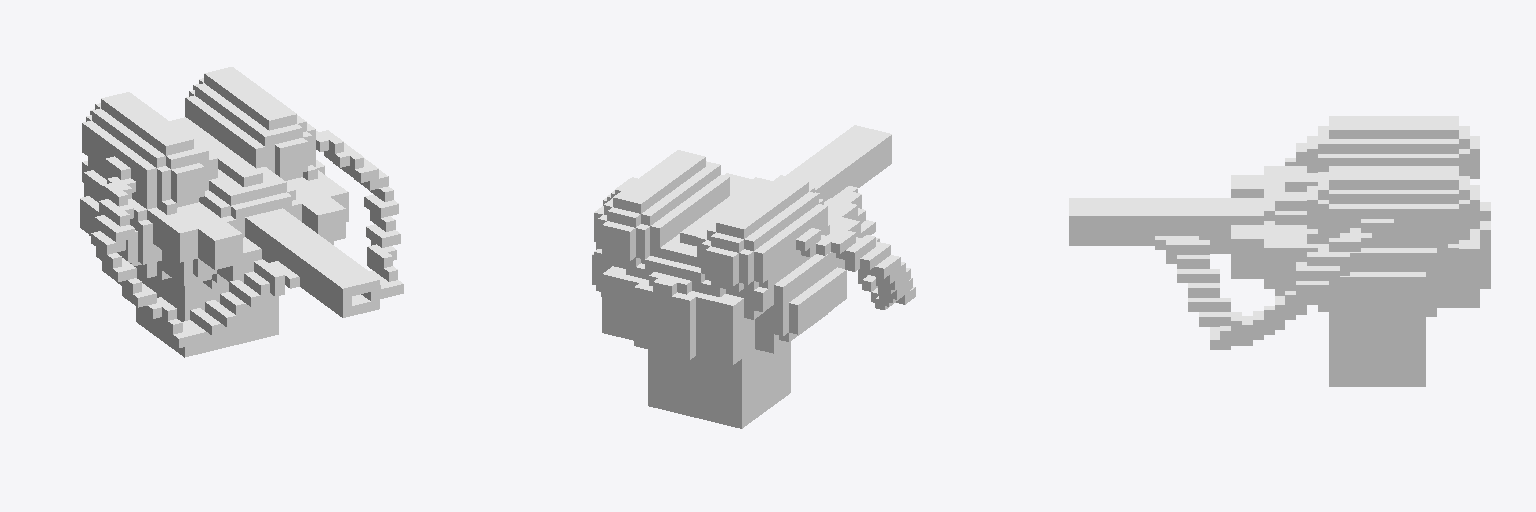
File: fire_turret.obj
The picture shows the model from 3 angles: view 1: azimuth 30°, elevation 25°; view 2: azimuth 150°, elevation 25°; view 3: azimuth 270°, elevation 25°; orthographic projection.
Visible parts, largest first — view 1: fire_turret; view 2: fire_turret; view 3: fire_turret.
Part boxes in pixels (x1,y1,x2,y2): fire_turret: (80,67,403,357); fire_turret: (592,125,915,428); fire_turret: (1069,116,1490,386).
Size of the model in its own units: 30 by 22 by 39.